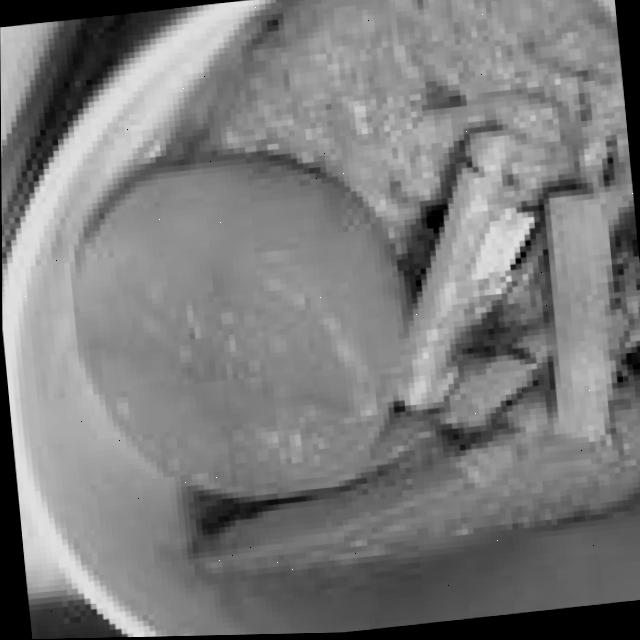熟制海鲜: (63, 0, 640, 557)
